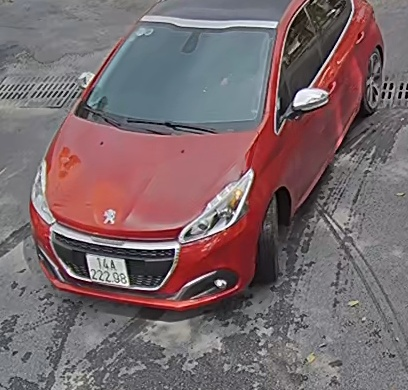vehicle plate: (82, 249, 132, 292)
